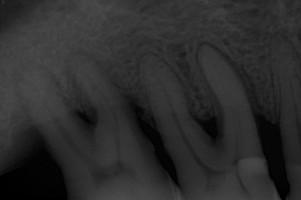Dental Caries: (60, 45, 146, 127)
Endo-Periodontal Lesion: (191, 108, 225, 138)
